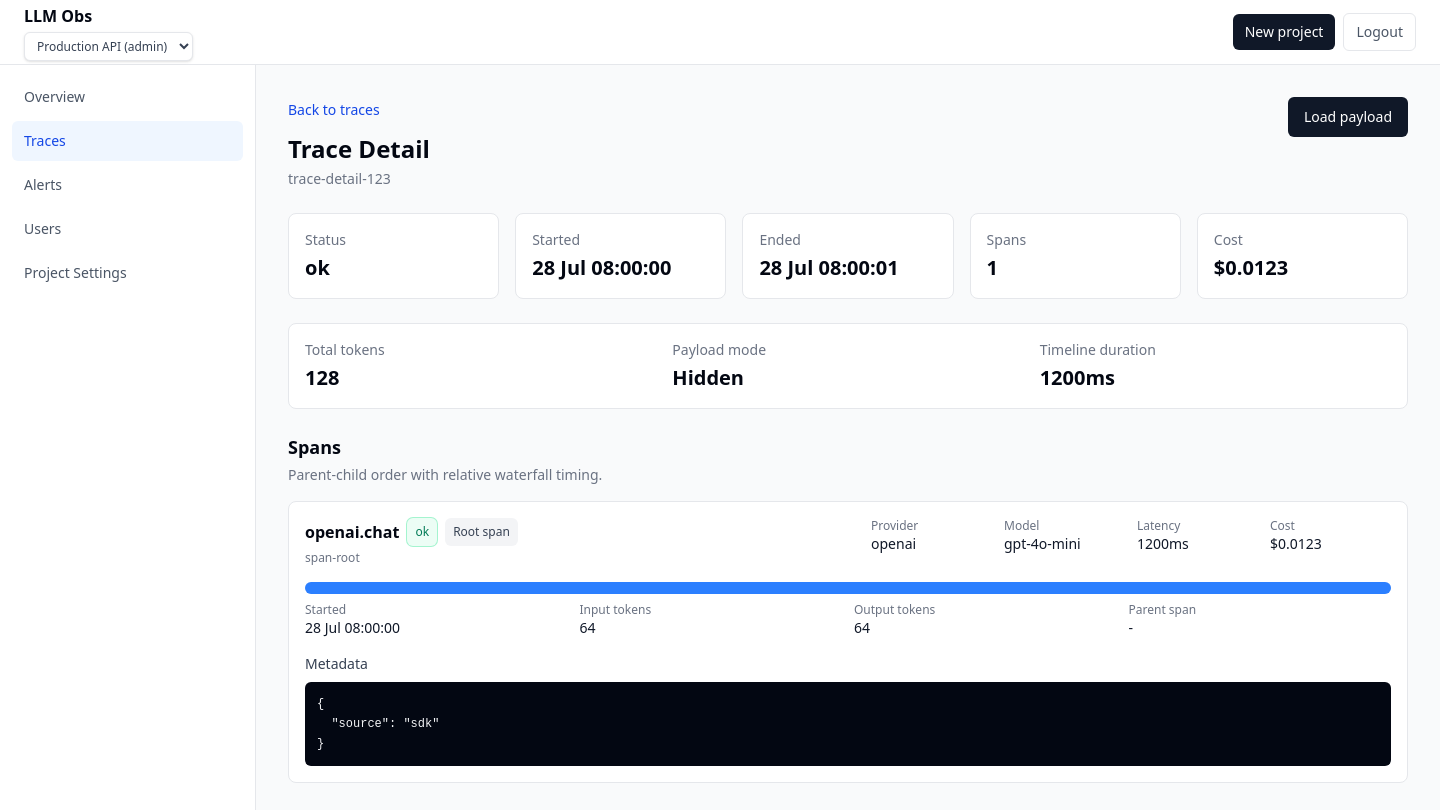
Test: App › loads trace detail payloads on demand for the selected trace
This screenshot has width=1440, height=810.
Check: the heading "Trace Detail" is shown, box [288,133,430,165]
Check: the heading "openai.chat" is shown, box [305,520,400,544]
Click the button "Load payload" at (1348, 117), box [1288,97,1408,137]
(page scrolled)
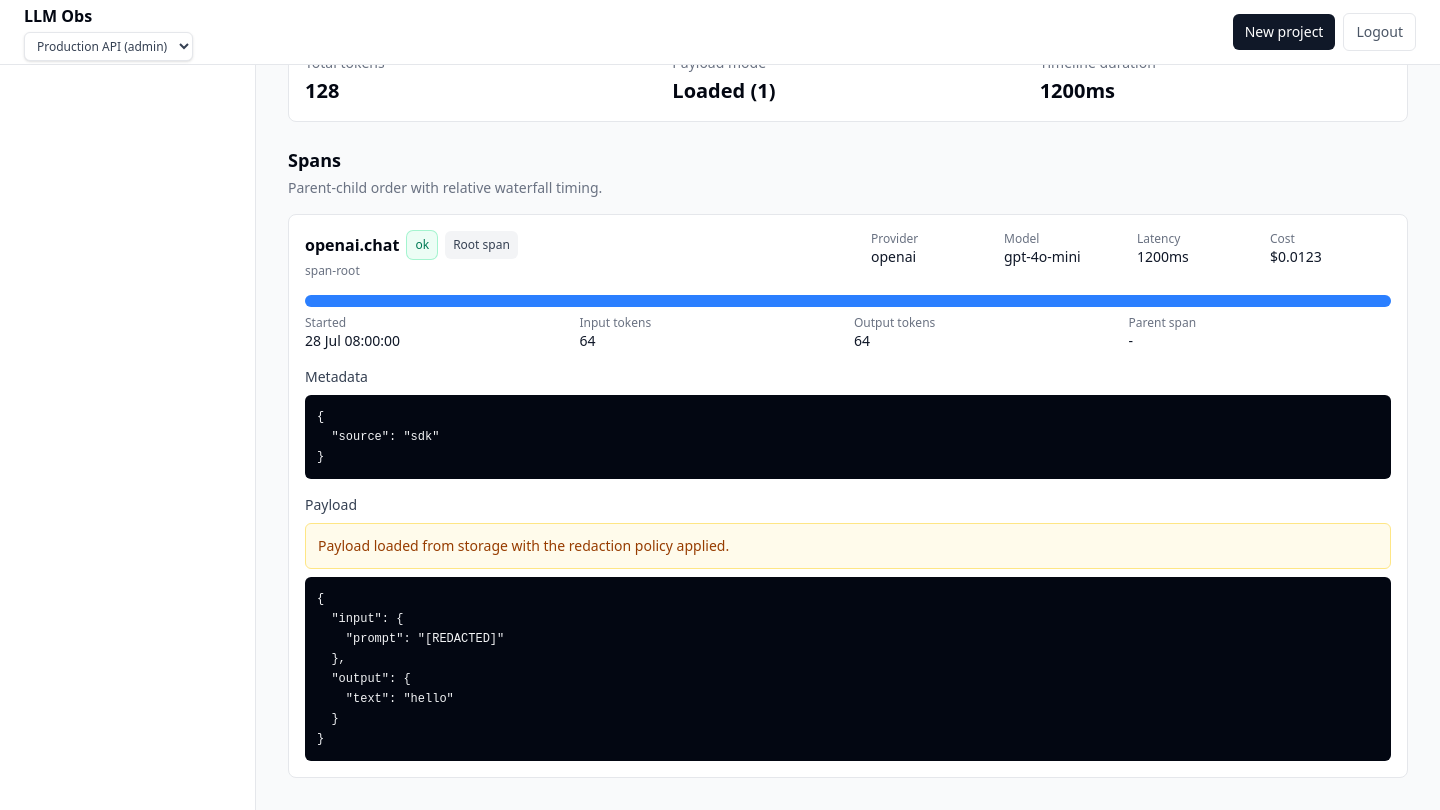
Check: the text "Loaded (1)" is shown, box [672,77,775,104]
Check: the text "Payload loaded from storage with the redaction policy applied." is shown, box [305,523,1391,569]
Check: the text "REDACTED" is shown, box [317,592,504,746]
